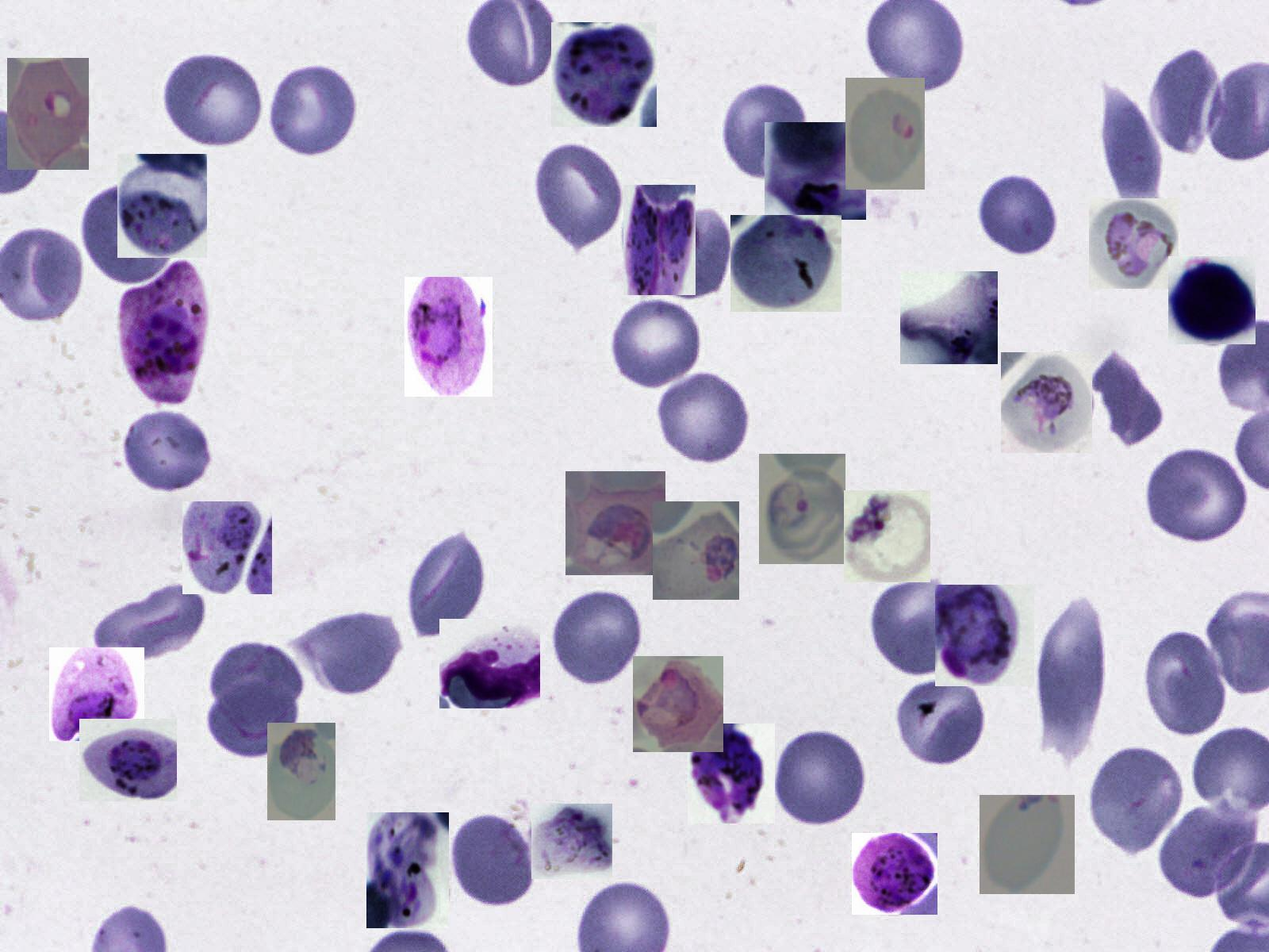Infected: (120, 251, 210, 412), (551, 22, 657, 127), (730, 215, 842, 312), (404, 277, 493, 397), (565, 471, 665, 575), (935, 585, 1034, 686), (765, 122, 866, 220), (366, 812, 449, 928), (980, 795, 1075, 894), (117, 154, 207, 258), (760, 454, 845, 564), (1001, 352, 1092, 453), (7, 58, 89, 170), (900, 271, 998, 364), (439, 619, 540, 708), (49, 647, 144, 741), (845, 79, 925, 190), (633, 656, 723, 752), (688, 724, 775, 823), (653, 501, 739, 600), (182, 501, 272, 594), (1089, 198, 1179, 289), (79, 719, 177, 801), (623, 185, 696, 295), (844, 490, 930, 582), (1168, 257, 1256, 345), (852, 833, 937, 915), (267, 723, 335, 820), (531, 804, 612, 879)
Uninfected: (1034, 592, 1107, 769), (1088, 746, 1186, 857), (1146, 449, 1252, 546), (159, 52, 266, 148), (863, 578, 964, 679), (98, 576, 209, 666), (404, 524, 489, 641), (534, 139, 624, 249), (1153, 805, 1256, 900), (83, 181, 175, 287), (655, 369, 754, 466), (297, 608, 402, 699), (773, 727, 868, 827), (610, 295, 705, 393), (549, 589, 643, 687), (1144, 46, 1227, 156), (1141, 628, 1227, 734), (213, 639, 305, 735), (268, 63, 359, 159), (721, 81, 807, 182), (1098, 79, 1165, 204), (449, 812, 535, 908), (122, 411, 215, 496), (647, 208, 732, 301), (891, 681, 983, 766), (209, 677, 298, 762), (1091, 349, 1165, 450), (979, 174, 1065, 257)
